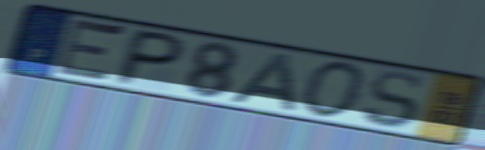8: (180, 40, 242, 101)
A: (226, 50, 301, 115)
E: (51, 15, 131, 87)
O: (299, 58, 371, 121)
P: (108, 26, 191, 88)
S: (360, 69, 425, 131)
